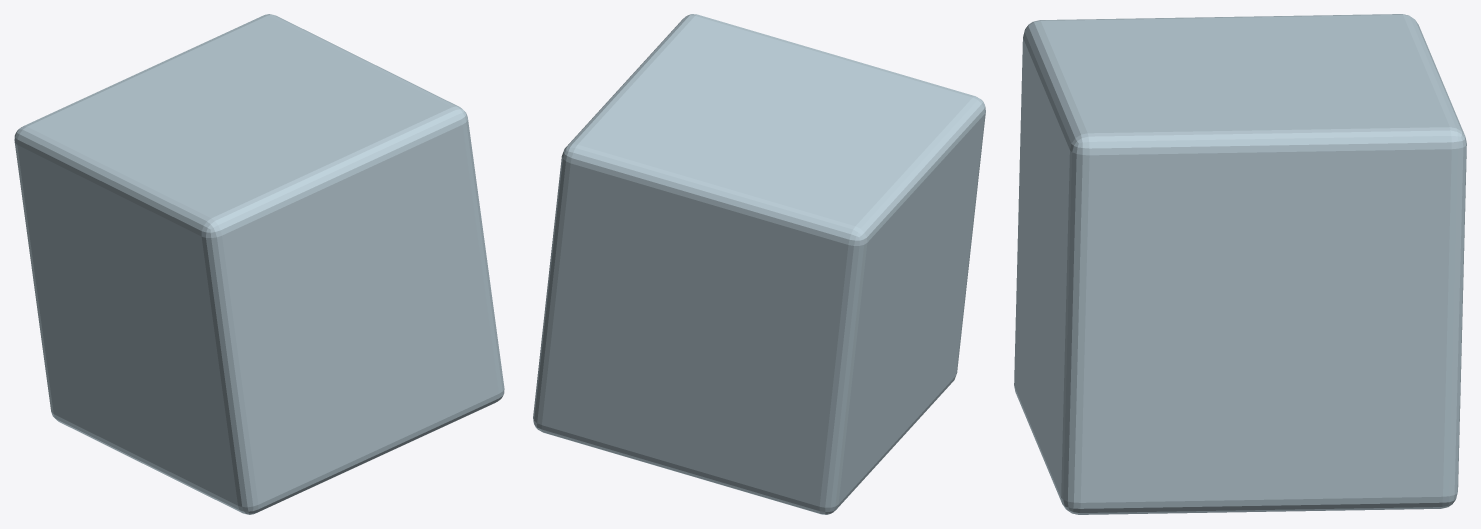
File: glass_cubes_design_S.glb
3 views of the same model, side by side, from view 1: azimuth 30°, elevation 25°; view 2: azimuth 150°, elevation 25°; view 3: azimuth 270°, elevation 25° (orthographic). The views are drawn at different scales.
Visible parts, largest first — view 1: GlassCube_NetworkS; view 2: GlassCube_NetworkS; view 3: GlassCube_NetworkS.
Part boxes in pixels (left/top/right/bottom): GlassCube_NetworkS: left=14, top=14, right=504, bottom=514; GlassCube_NetworkS: left=533, top=14, right=985, bottom=514; GlassCube_NetworkS: left=1014, top=14, right=1466, bottom=514.
Size of the model in its own units: 2.91 by 2.73 by 2.71.
